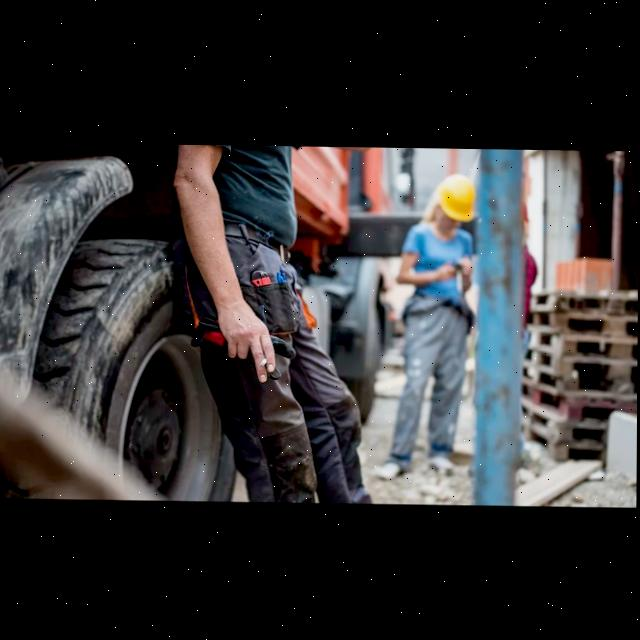cigarette: (260, 357, 267, 366)
